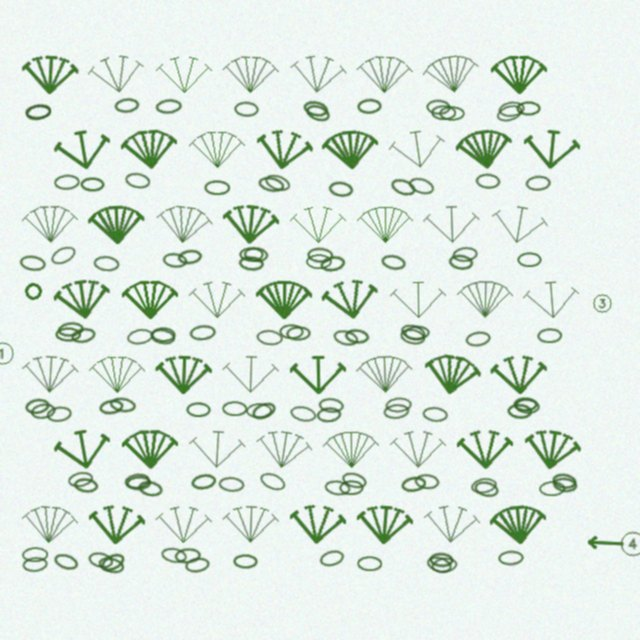chain: (49, 243, 78, 267), (98, 550, 127, 574), (258, 470, 287, 493), (250, 399, 278, 422), (495, 102, 524, 124), (263, 172, 292, 194), (407, 175, 436, 197), (304, 102, 332, 124), (389, 176, 417, 198), (52, 551, 80, 573), (399, 322, 427, 343), (340, 470, 368, 491), (425, 554, 453, 575), (289, 404, 317, 424), (97, 555, 125, 575), (318, 548, 346, 568), (25, 102, 52, 122), (332, 328, 359, 348), (473, 479, 500, 499), (87, 550, 114, 570), (257, 175, 285, 194), (126, 327, 154, 346), (470, 476, 498, 495), (160, 546, 188, 565), (302, 99, 329, 118), (124, 171, 151, 190), (319, 254, 346, 273), (380, 253, 407, 272), (70, 326, 97, 345), (149, 327, 176, 346), (399, 327, 426, 346), (67, 470, 94, 489), (137, 479, 164, 498), (190, 472, 217, 491), (498, 100, 525, 118), (19, 254, 46, 272), (24, 397, 51, 415), (98, 398, 125, 416), (109, 396, 136, 414), (324, 479, 351, 497), (400, 475, 427, 493), (551, 472, 578, 490), (184, 556, 211, 574), (431, 556, 458, 574), (328, 180, 354, 198), (177, 248, 203, 266), (448, 253, 474, 271), (465, 330, 491, 348), (46, 405, 72, 423), (30, 402, 56, 420), (124, 472, 150, 490), (552, 476, 578, 494), (155, 98, 182, 115), (93, 255, 120, 272), (57, 321, 84, 338), (189, 324, 216, 341), (256, 329, 283, 346), (383, 403, 410, 420), (218, 476, 245, 493), (174, 547, 201, 564), (114, 97, 140, 114), (162, 252, 188, 269), (238, 255, 264, 272), (243, 246, 269, 263), (452, 246, 478, 263), (344, 328, 370, 345), (316, 406, 342, 423), (318, 397, 344, 414), (422, 406, 448, 423), (73, 477, 99, 494), (414, 473, 440, 490), (22, 556, 48, 573), (385, 397, 412, 413), (25, 104, 51, 120), (54, 174, 80, 190), (475, 173, 501, 189), (525, 175, 551, 191), (307, 247, 333, 263), (404, 325, 430, 341), (514, 398, 540, 414), (498, 550, 524, 566), (234, 101, 259, 117), (357, 98, 382, 114), (426, 99, 451, 115), (507, 403, 532, 419), (126, 475, 151, 491), (429, 552, 454, 568), (439, 106, 465, 121), (204, 180, 230, 195), (306, 254, 332, 269), (55, 327, 81, 342), (246, 403, 272, 418), (539, 481, 565, 496), (22, 547, 48, 562), (431, 105, 456, 120), (516, 101, 541, 116), (80, 177, 105, 192), (239, 247, 264, 262), (517, 252, 542, 267), (151, 327, 176, 342), (286, 326, 311, 341), (279, 324, 304, 339), (537, 328, 562, 343), (186, 402, 211, 417), (222, 401, 247, 416), (513, 397, 538, 412), (339, 480, 364, 495), (233, 554, 258, 569), (357, 556, 382, 571)
fan: (52, 424, 114, 475), (52, 125, 114, 175), (253, 125, 315, 175), (488, 200, 550, 250), (421, 350, 483, 400), (521, 425, 583, 475), (253, 425, 314, 475), (86, 50, 147, 99), (421, 50, 482, 99), (387, 125, 448, 174), (454, 125, 515, 174), (52, 275, 113, 324), (320, 275, 381, 324), (154, 201, 214, 249), (288, 51, 348, 98), (120, 126, 179, 173), (522, 126, 581, 173), (221, 201, 280, 248), (288, 501, 347, 548), (422, 501, 481, 548), (321, 127, 380, 173), (522, 277, 581, 323), (20, 502, 79, 548), (87, 502, 146, 548), (355, 502, 414, 548), (489, 502, 548, 548), (21, 352, 79, 397), (188, 427, 246, 472), (21, 53, 79, 97), (490, 353, 548, 397), (222, 53, 279, 97), (356, 53, 413, 97), (88, 203, 145, 247), (155, 353, 212, 397), (155, 503, 212, 547), (423, 203, 480, 246), (222, 353, 279, 396), (356, 353, 413, 396), (222, 503, 279, 546), (22, 203, 78, 246), (457, 278, 513, 321), (122, 428, 178, 471), (390, 428, 446, 471), (457, 428, 513, 471), (156, 54, 212, 96), (491, 54, 547, 96), (189, 129, 245, 171), (290, 204, 346, 246), (357, 204, 413, 246), (122, 279, 178, 321), (189, 279, 245, 321), (256, 279, 312, 321), (390, 279, 446, 321), (89, 354, 145, 396), (290, 354, 346, 396), (323, 429, 379, 471)
noise: (618, 529, 640, 558), (585, 535, 624, 551), (591, 292, 613, 314), (23, 281, 44, 302), (0, 340, 15, 366)
